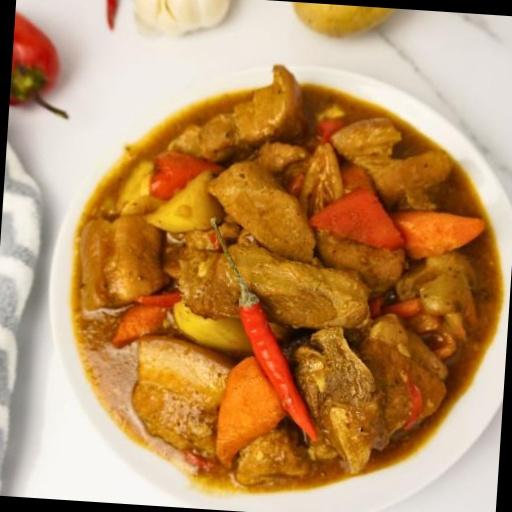pork caldereta: (74, 74, 496, 481)
